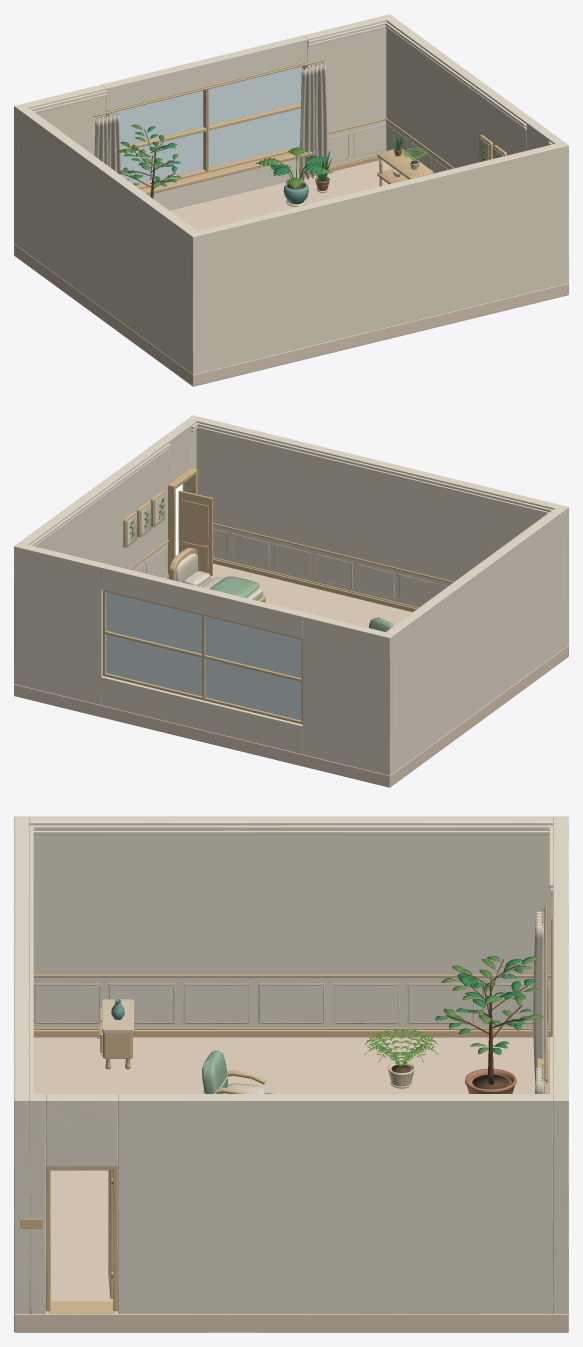
File: HotelH04_FinalPolish.fbx
3 renders of one model, top to bottom at view 1: azimuth 30°, elevation 25°; view 2: azimuth 150°, elevation 25°; view 3: azimuth 270°, elevation 25°, orthographic. The views are drawn at different scales.
Visible parts, largest first — view 1: Continuous finished wall, Continuous finished wall.001, Load-bearing doorway return, Uniform foundation, Deep window masonry.001, Deep window masonry.003, Glazing panel.002, Glazing panel.003, Deep window masonry, Glazing panel.001, Deep window masonry.002, Weighted pleated linen curtain.001 (+15 smaller); view 2: Continuous finished wall, Continuous finished wall.001, Deep window masonry, Deep window masonry.001, Uniform foundation, Load-bearing doorway return, Deep window masonry.002, Deep window masonry.003, Glazing panel.002, Glazing panel, Glazing panel.001, Glazing panel.003 (+17 smaller); view 3: Load-bearing doorway return, Continuous finished wall.001, Uniform foundation, Continuous finished wall, Load-bearing doorway return.002, Deep window masonry.001, Load-bearing doorway return.001, Continuous stepped wall trim.025, Continuous stepped wall trim.029, Inset finished panel field.020, Inset finished panel field.022, Inset finished panel field.023 (+36 smaller).
Boxes of the visible parts, left/top/right/bottom form: Continuous finished wall: left=188, top=141, right=568, bottom=374; Continuous finished wall.001: left=19, top=107, right=195, bottom=369; Load-bearing doorway return: left=386, top=18, right=534, bottom=172; Uniform foundation: left=14, top=160, right=568, bottom=386; Deep window masonry.001: left=303, top=14, right=394, bottom=165; Deep window masonry.003: left=101, top=35, right=307, bottom=110; Glazing panel.002: left=208, top=108, right=300, bottom=167; Glazing panel.003: left=208, top=66, right=302, bottom=125; Deep window masonry: left=14, top=85, right=106, bottom=246; Glazing panel.001: left=109, top=90, right=203, bottom=146; Deep window masonry.002: left=148, top=158, right=299, bottom=210; Weighted pleated linen curtain.001: left=299, top=63, right=327, bottom=180; Continuous finished wall: left=188, top=415, right=568, bottom=647; Continuous finished wall.001: left=387, top=508, right=563, bottom=771; Deep window masonry: left=302, top=613, right=394, bottom=775; Deep window masonry.001: left=14, top=542, right=105, bottom=704; Uniform foundation: left=14, top=563, right=568, bottom=787; Load-bearing doorway return: left=19, top=440, right=167, bottom=577; Deep window masonry.002: left=101, top=676, right=302, bottom=754; Deep window masonry.003: left=101, top=564, right=306, bottom=638; Glazing panel.002: left=106, top=634, right=202, bottom=696; Glazing panel: left=205, top=659, right=301, bottom=720; Glazing panel.001: left=205, top=616, right=301, bottom=678; Glazing panel.003: left=106, top=592, right=202, bottom=653; Load-bearing doorway return: left=118, top=1094, right=553, bottom=1313; Continuous finished wall.001: left=29, top=816, right=553, bottom=1027; Uniform foundation: left=14, top=1037, right=568, bottom=1332; Continuous finished wall: left=14, top=816, right=29, bottom=1313; Load-bearing doorway return.002: left=46, top=1094, right=117, bottom=1166; Deep window masonry.001: left=553, top=1034, right=568, bottom=1313; Load-bearing doorway return.001: left=29, top=1094, right=45, bottom=1313; Continuous stepped wall trim.025: left=33, top=1030, right=550, bottom=1037; Continuous stepped wall trim.029: left=30, top=825, right=553, bottom=830; Inset finished panel field.020: left=33, top=983, right=100, bottom=1023; Inset finished panel field.022: left=183, top=983, right=249, bottom=1023; Inset finished panel field.023: left=258, top=983, right=324, bottom=1023.
Bounding box in the file's own units: 10.31 × 3.92 × 8.48.
